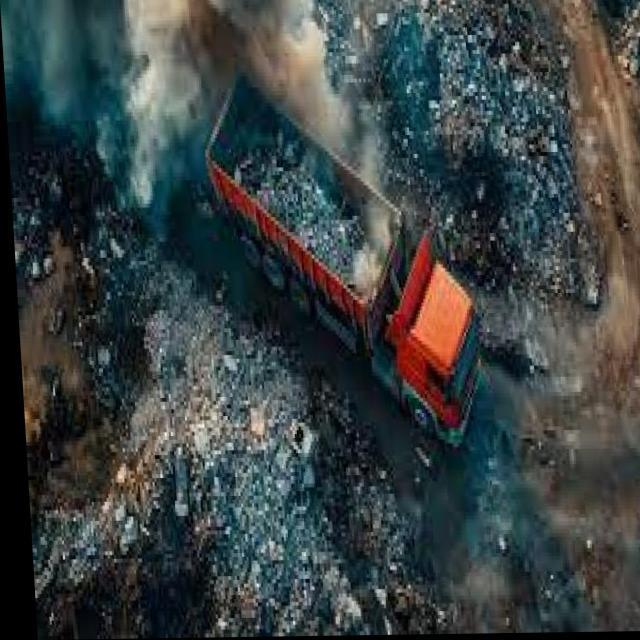uncovered: (170, 90, 450, 308)
